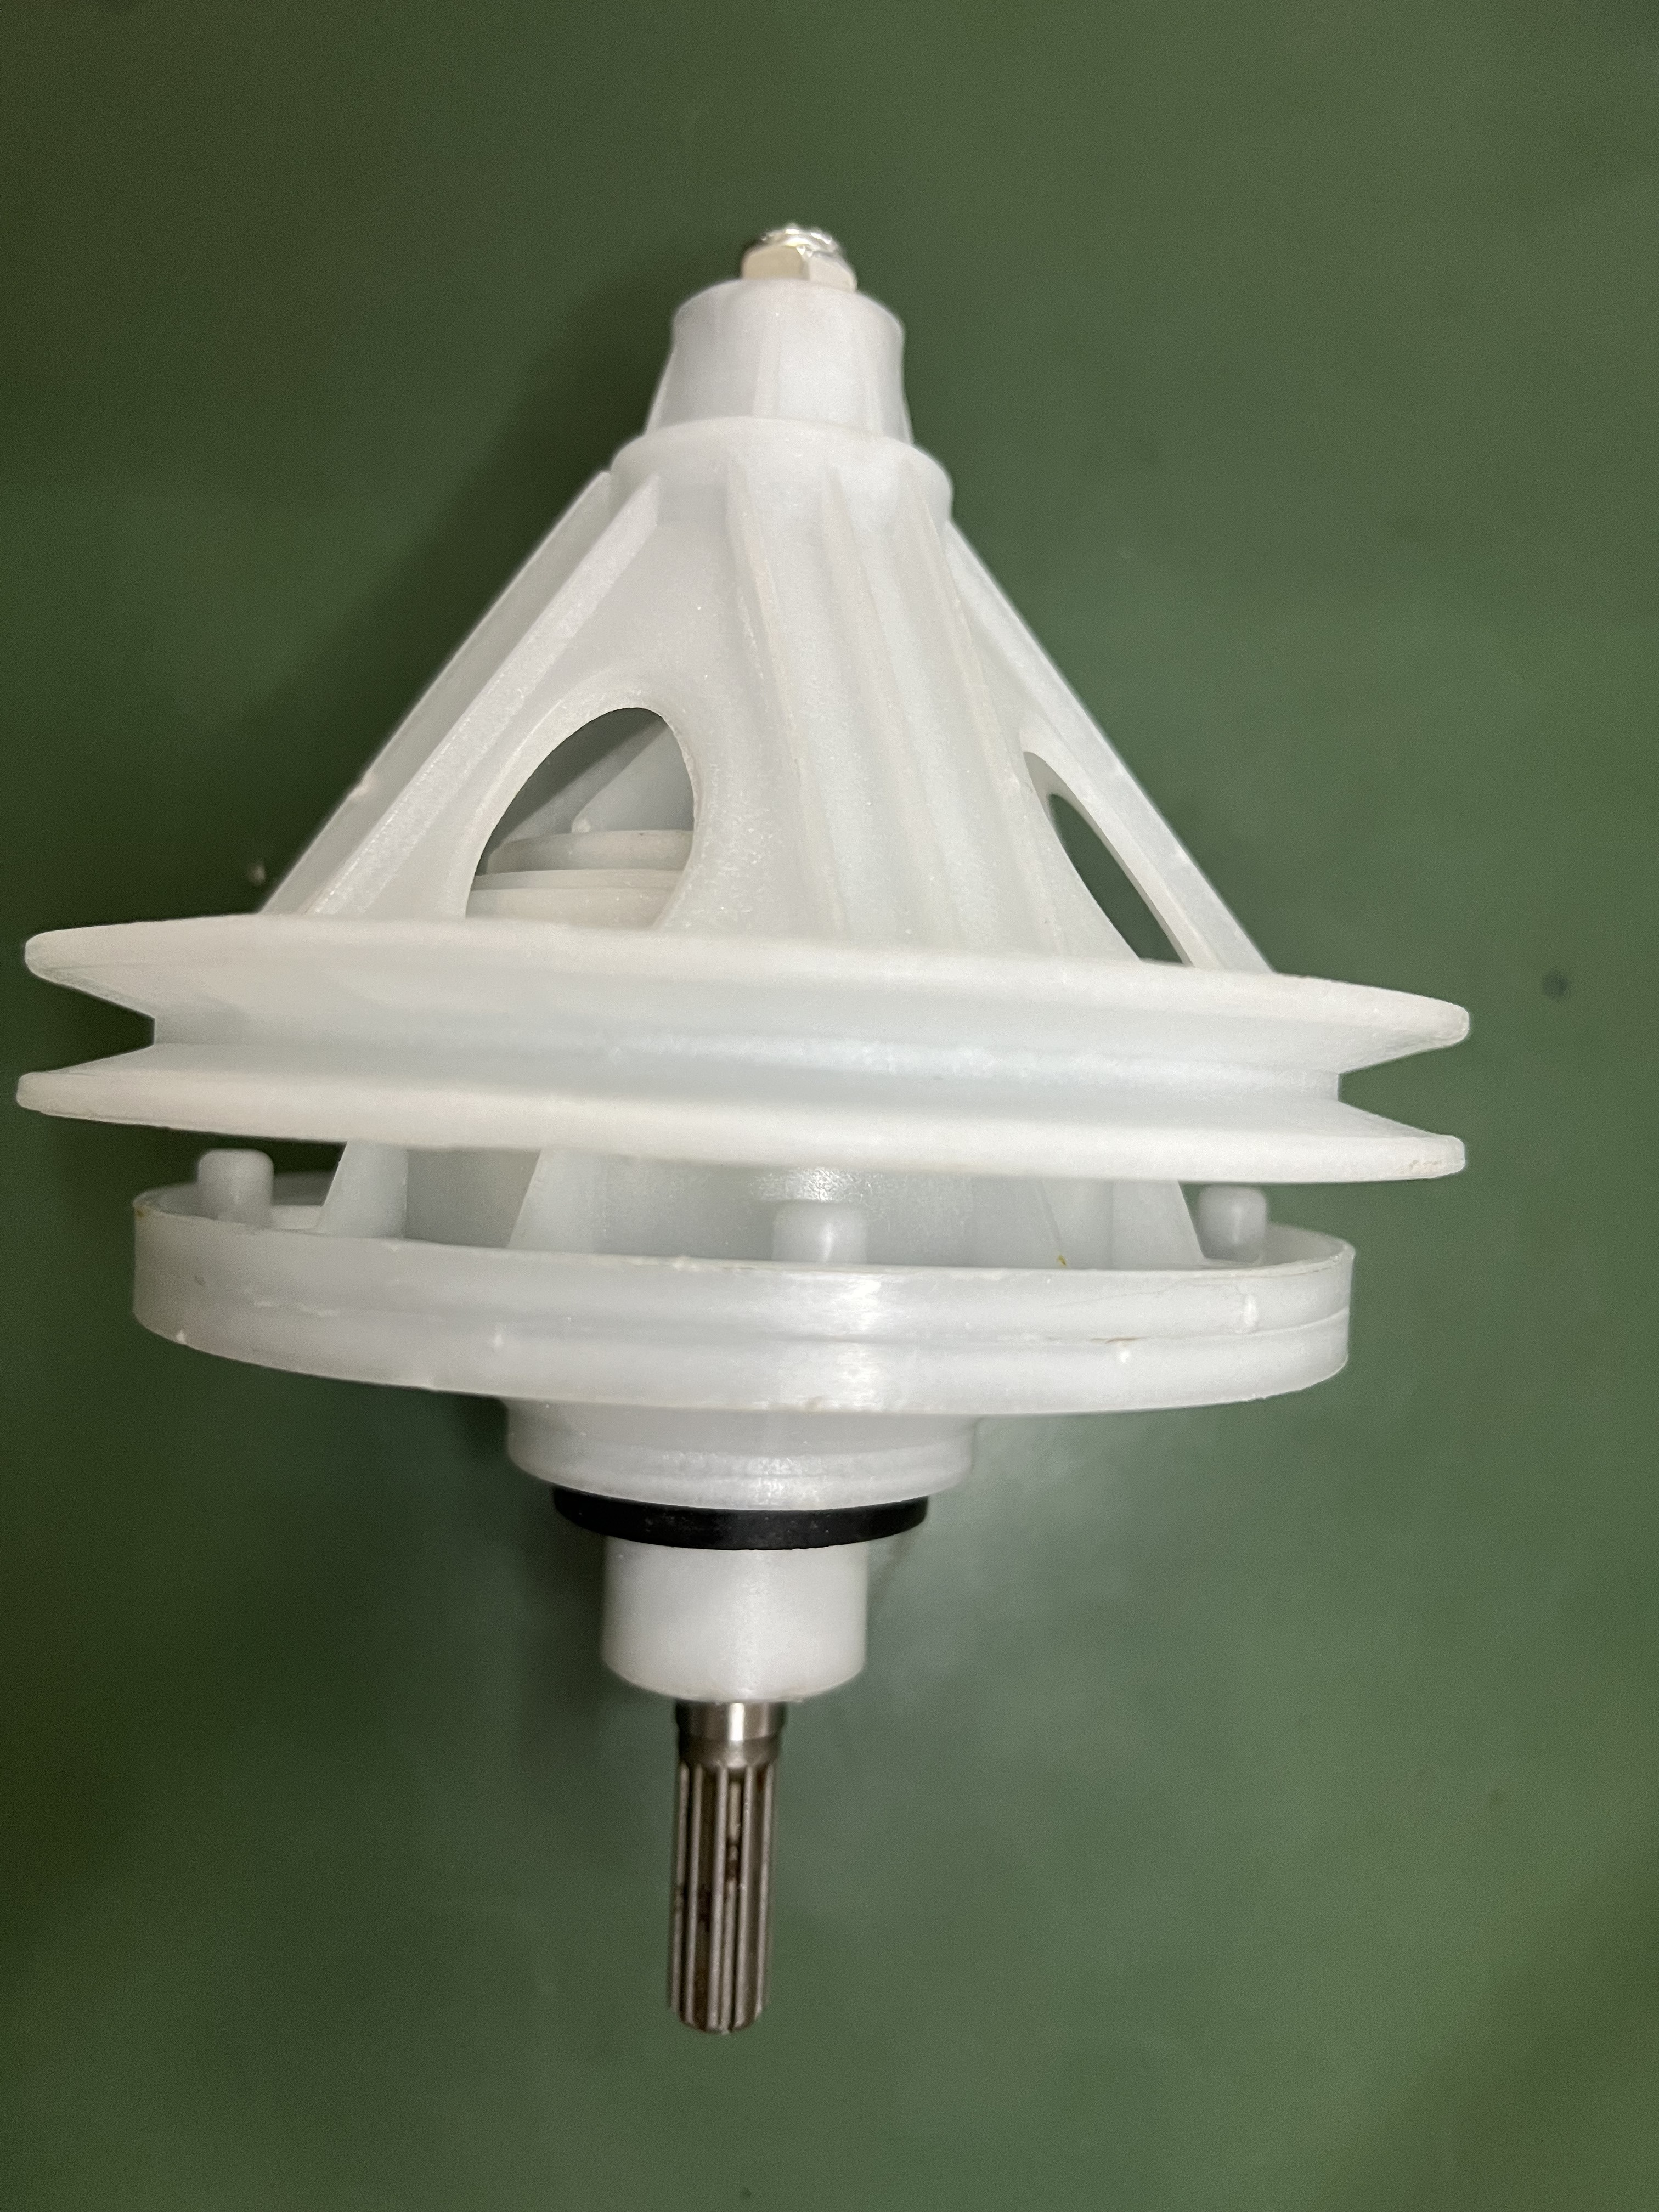gear_box_circle: (56, 247, 1478, 2043)
